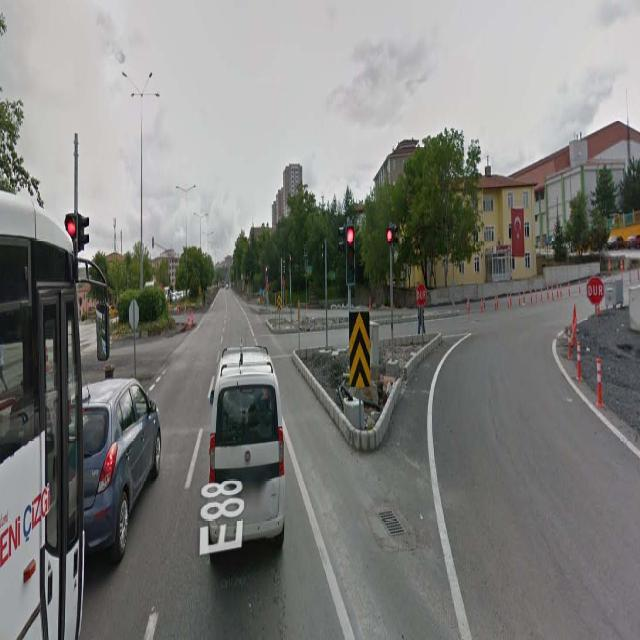dur: (587, 279, 603, 306), (415, 284, 427, 307)
kirmizi: (346, 226, 355, 284)
